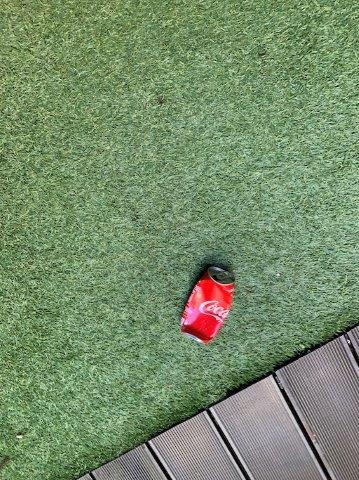kaleng: (181, 268, 233, 343)
